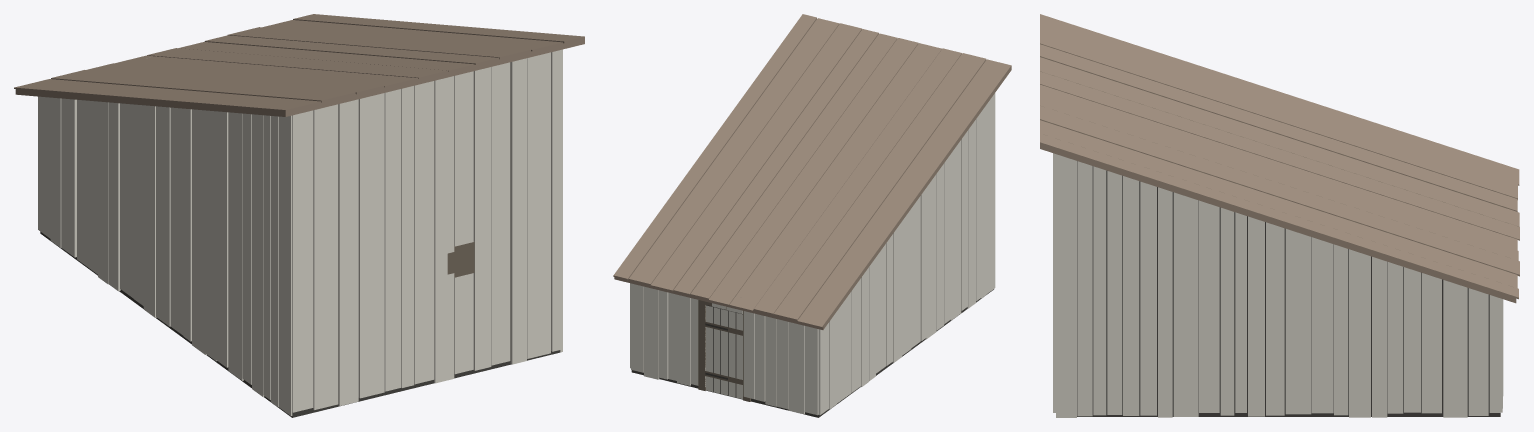
Rendered from recon_1835_south_d2_005__inferred_1835.glb.
3 views of the same model, side by side, from view 1: azimuth 30°, elevation 25°; view 2: azimuth 150°, elevation 25°; view 3: azimuth 270°, elevation 25° (orthographic). The views are drawn at different scales.
Visible parts, largest first — view 1: recon_1835_south_d2_005__inferred_1835; view 2: recon_1835_south_d2_005__inferred_1835; view 3: recon_1835_south_d2_005__inferred_1835.
Boxes of the visible parts, x1,y1,x2,y2 form: recon_1835_south_d2_005__inferred_1835: (14,14,584,417); recon_1835_south_d2_005__inferred_1835: (613,14,1011,417); recon_1835_south_d2_005__inferred_1835: (1040,14,1519,417).
Size of the model in its own units: 4.75 by 4.83 by 7.47.
